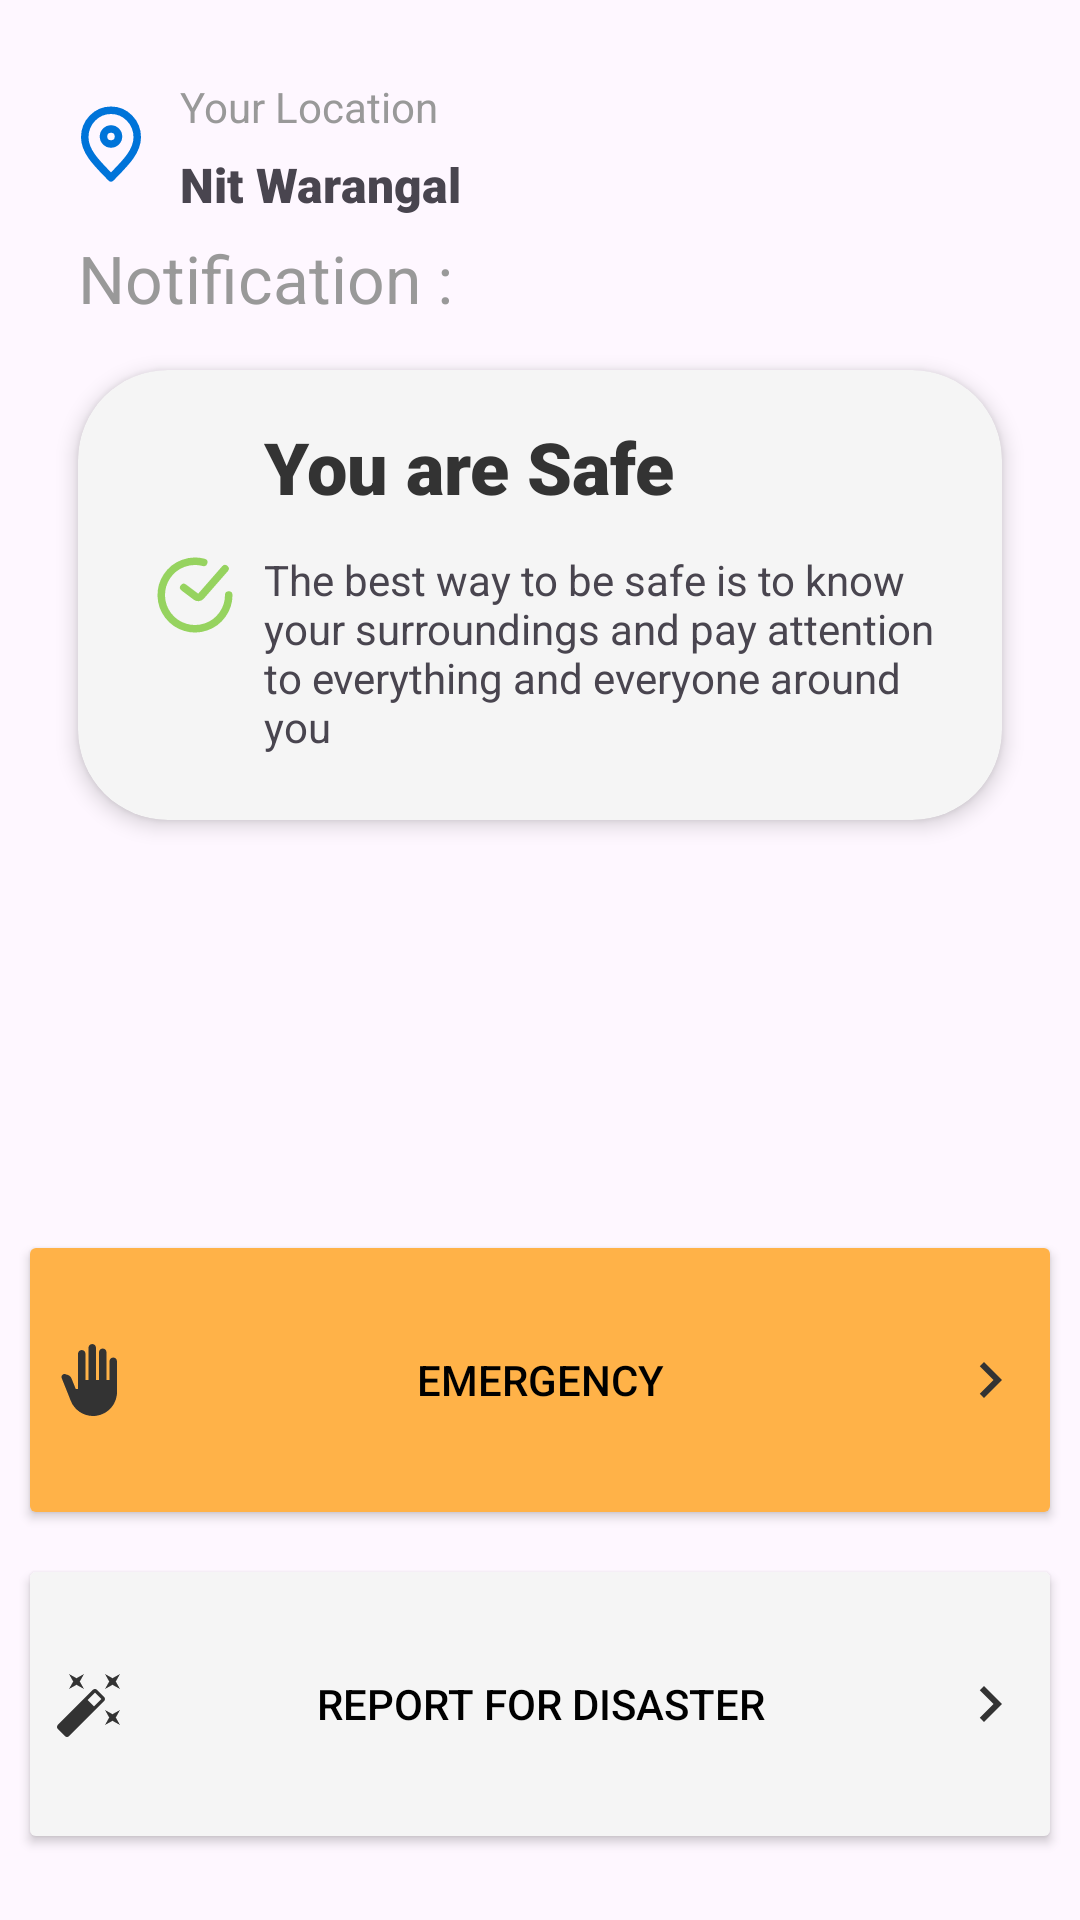

Where icons sit on this 1080x1920 app screen, as (x1, y1, x2, y2):
done ring round: (157, 557, 233, 633)
location pin: (81, 106, 141, 182)
